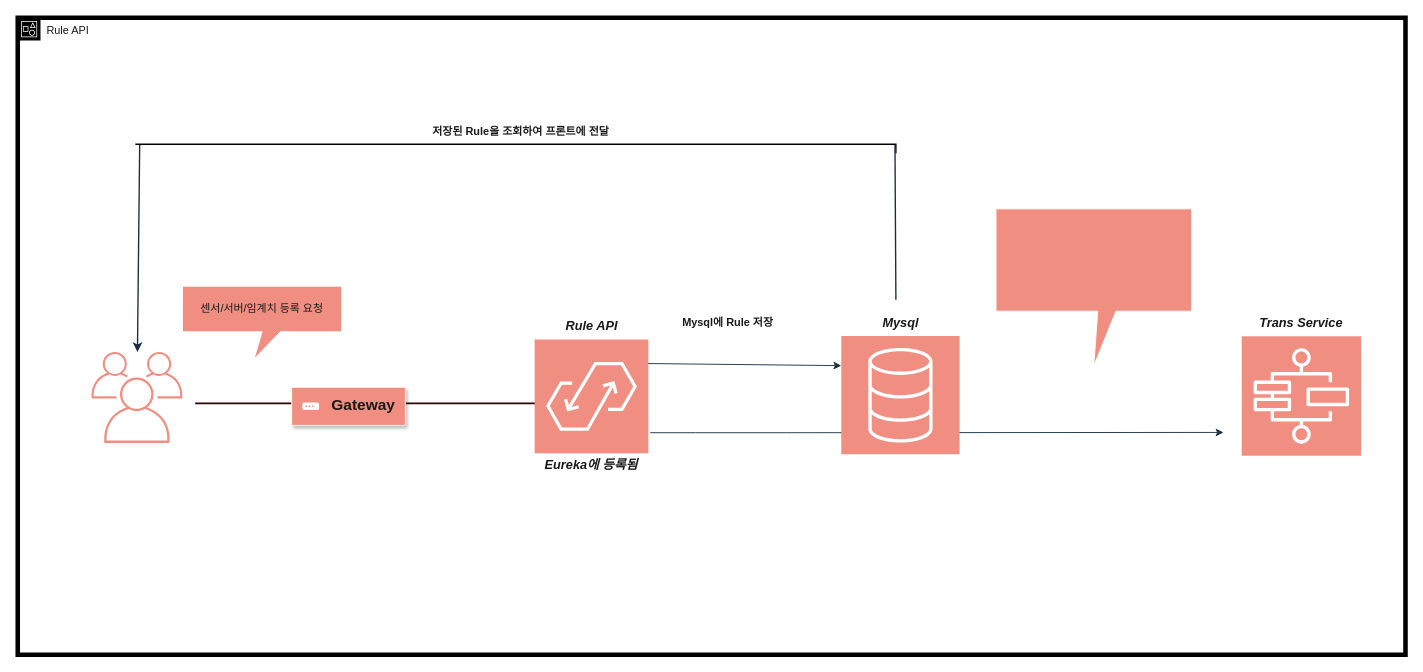
Image size: 1423x672. Some labels were removed from this diagram. Here are the shapes that lost their labels. From the top down, the centre of each, then its label:
At [1093,287]: "TransService는 RuleAPI를 통해 사용자가 설정한 rule(임계치)를 읽어감".
At [136,396]: "사용자 front".
